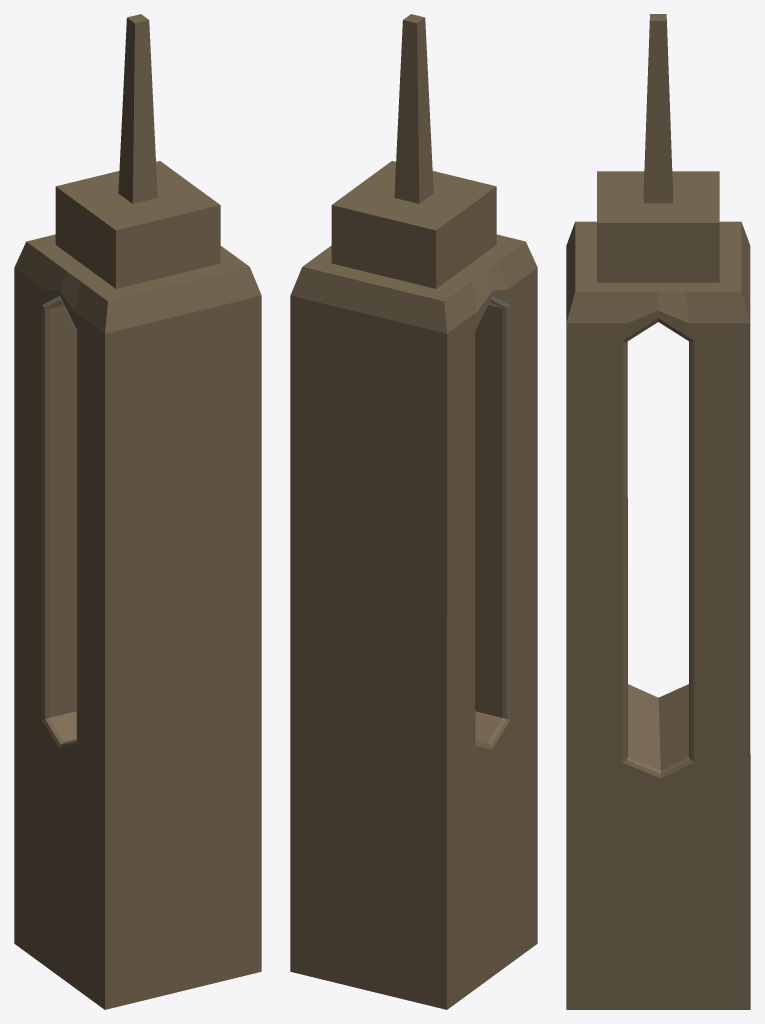
Rendered from RandomBuild1.fbx.
3 renders of one model, left to right at view 1: azimuth 30°, elevation 25°; view 2: azimuth 150°, elevation 25°; view 3: azimuth 270°, elevation 25°, orthographic.
Parts seen in each view (by area): view 1: BG4; view 2: BG4; view 3: BG4.
Part boxes in pixels (x1,y1,x2,y2): BG4: [14, 14, 261, 1009]; BG4: [290, 14, 537, 1009]; BG4: [566, 14, 750, 1009].
Bounding box in the file's own units: 14.87 × 85.1 × 14.9.
